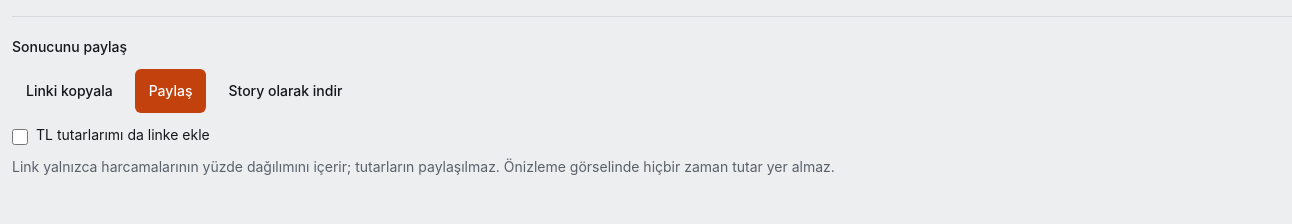
ShareActions › görsel alınamazsa hata mesajı gösterir
Step 1. Click the button "Story olarak indir" → click(285, 91), box [214,69,356,113]
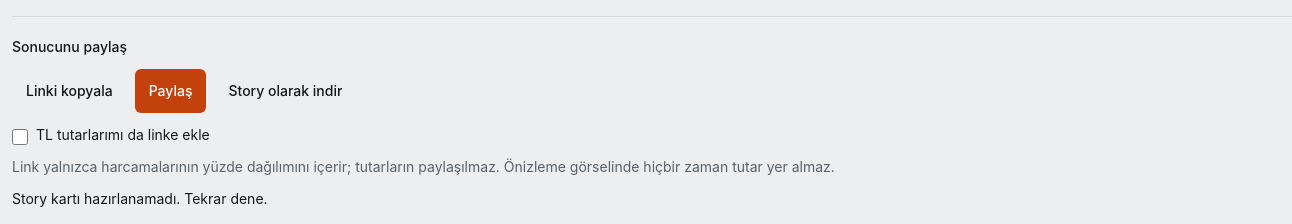
Expected: the message shows "hazırlanamadı", [12,190,268,207]
